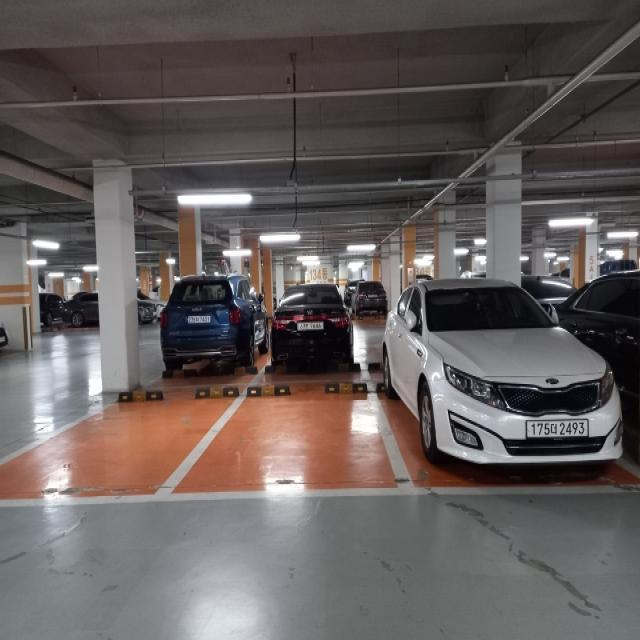Car: (384, 276, 626, 478), (160, 272, 264, 374), (270, 284, 354, 372)
Vacant: (3, 378, 219, 497), (208, 384, 397, 499)
